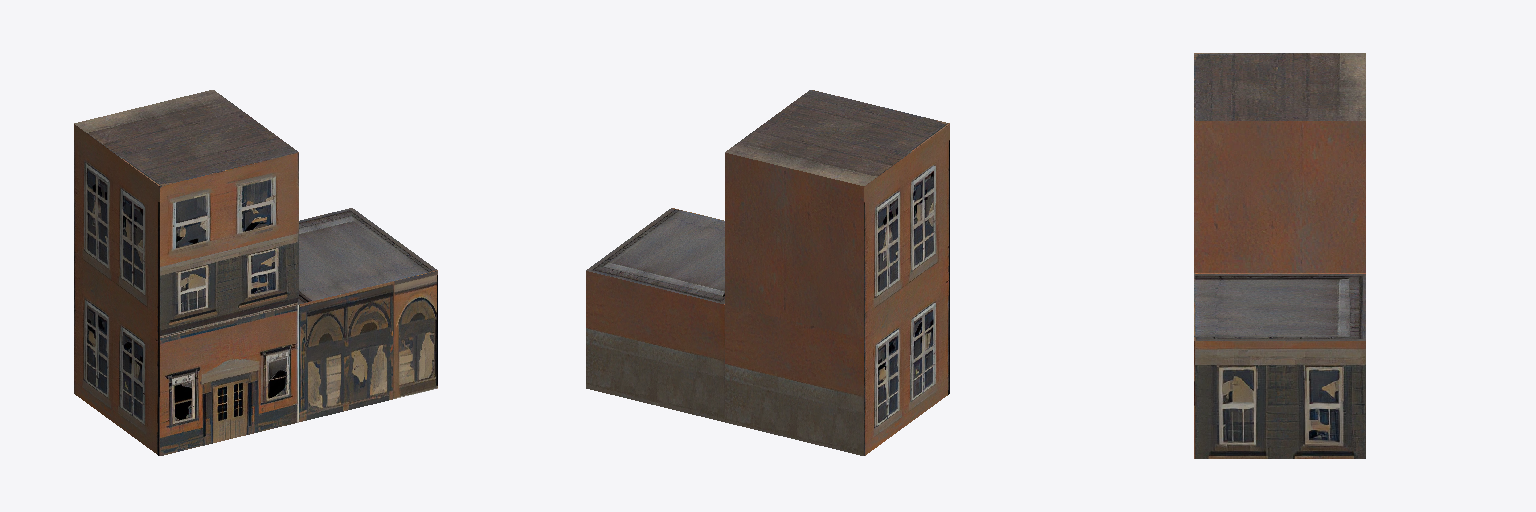
The picture shows the model from 3 angles: view 1: azimuth 30°, elevation 25°; view 2: azimuth 150°, elevation 25°; view 3: azimuth 270°, elevation 25°; orthographic projection.
Parts seen in each view (by area): view 1: Cube; view 2: Cube; view 3: Cube.
Boxes of the visible parts, x1=… form: Cube: x1=74, y1=90, x2=437, y2=455; Cube: x1=586, y1=90, x2=949, y2=455; Cube: x1=1194, y1=53, x2=1365, y2=458.
Bounding box in the file's own units: 29.04 × 26.87 × 15.53.
Materials: 1 (1 with a texture image).